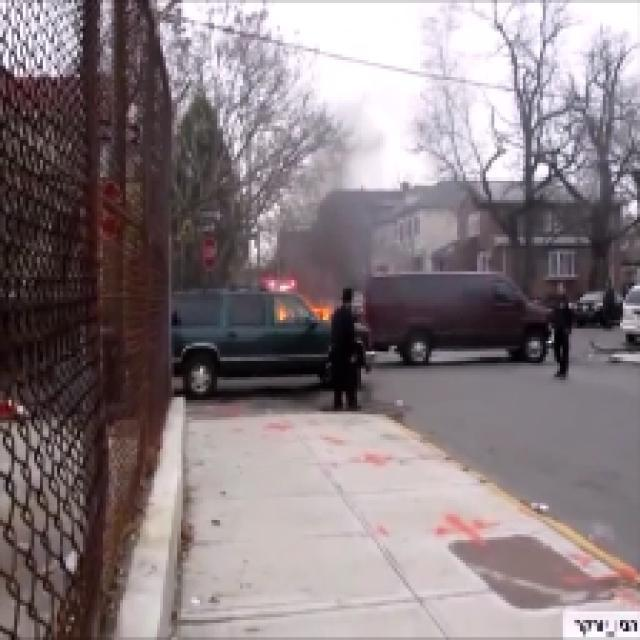Fire: (276, 296, 338, 324)
